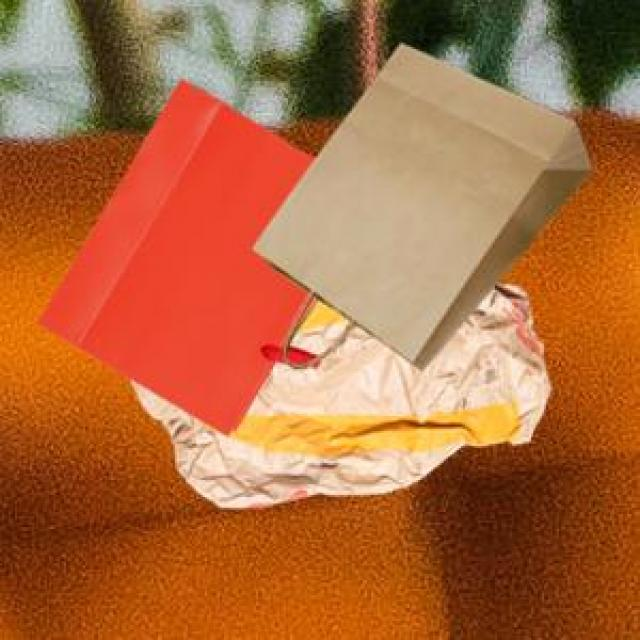Paper -Biodegradable-: (40, 80, 534, 504), (254, 47, 592, 361)
